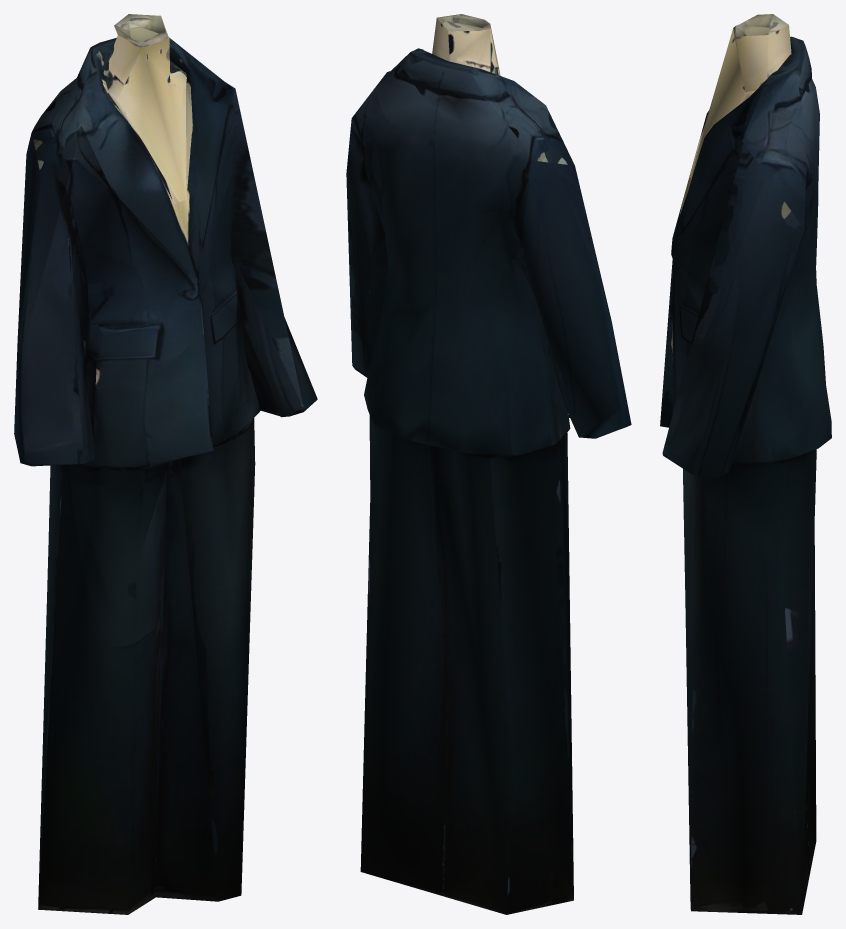
Rendered from conjuntos-extreme-simple.glb.
3 views of the same model, side by side, from view 1: azimuth 30°, elevation 25°; view 2: azimuth 150°, elevation 25°; view 3: azimuth 270°, elevation 25° (orthographic).
Parts seen in each view (by area): view 1: textured_mesh; view 2: textured_mesh; view 3: textured_mesh.
Part boxes in pixels (x1,y1,x2,y2): textured_mesh: (14, 14, 317, 914); textured_mesh: (346, 14, 631, 914); textured_mesh: (660, 14, 831, 914).
Size of the model in its own units: 0.688 by 1.99 by 0.3605.
Materials: 1 (1 with a texture image).
